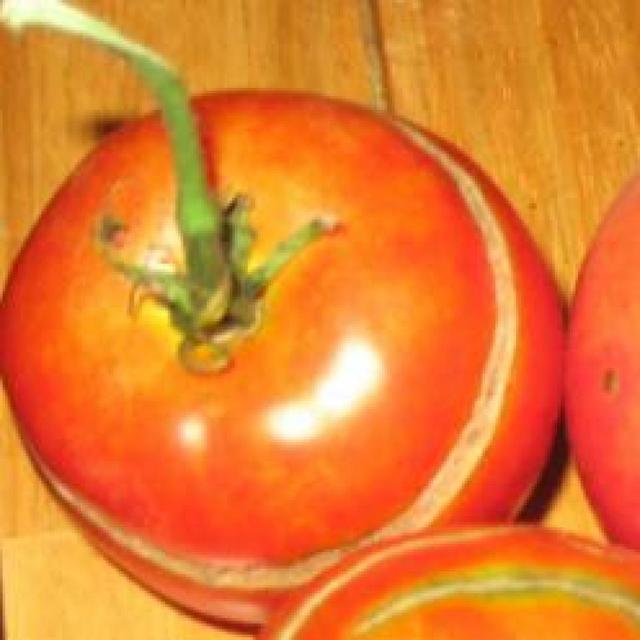Cracking Fruit: (181, 42, 340, 404)
